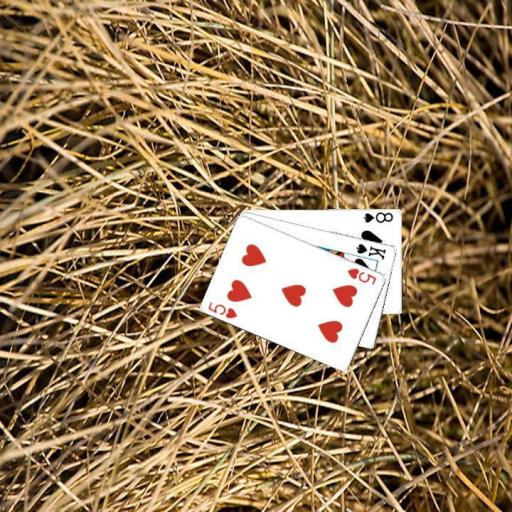card-corner: (352, 240, 388, 261), (344, 264, 378, 286), (205, 299, 239, 320), (360, 210, 394, 224)
